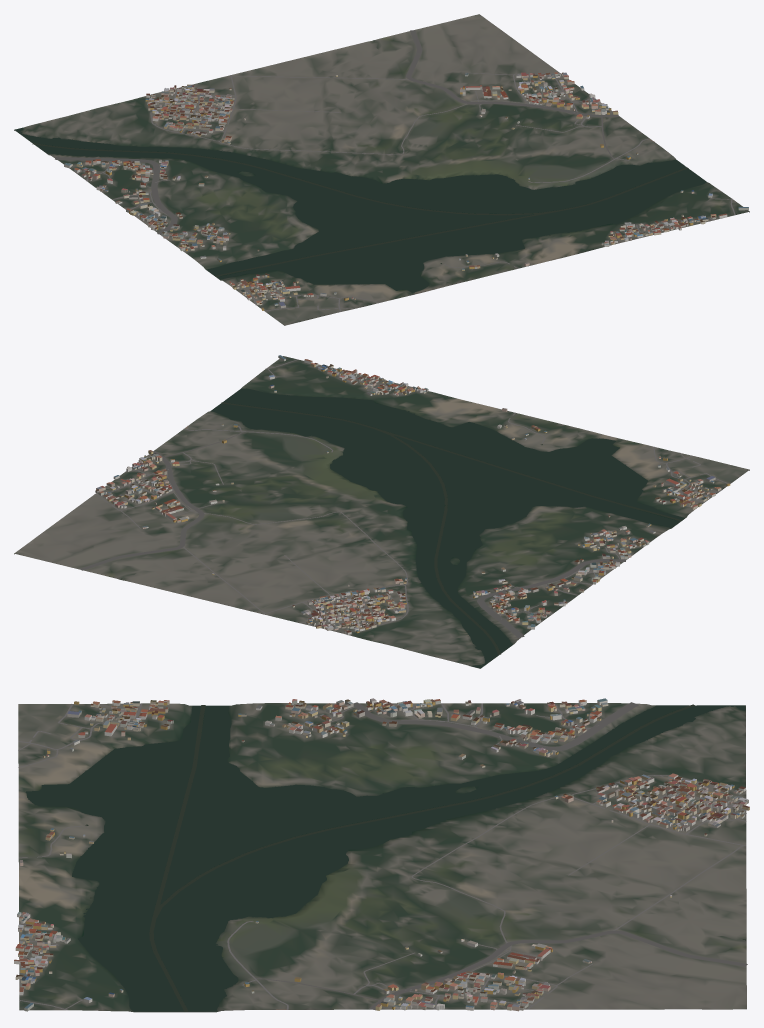
3 renders of one model, top to bottom at view 1: azimuth 30°, elevation 25°; view 2: azimuth 150°, elevation 25°; view 3: azimuth 270°, elevation 25°, orthographic. The views are drawn at different scales.
Visible parts, largest first — view 1: ground, water, buildings, roads; view 2: ground, water, buildings, roads; view 3: ground, water, buildings, roads.
Part boxes in pixels (x1,y1,x2,y2): ground: [14, 14, 749, 325]; water: [15, 40, 706, 292]; buildings: [64, 72, 748, 310]; roads: [55, 30, 735, 311]; ground: [14, 356, 749, 668]; water: [119, 388, 684, 668]; buildings: [95, 355, 730, 634]; roads: [79, 359, 727, 637]; ground: [18, 703, 746, 1012]; water: [26, 704, 745, 1012]; buildings: [14, 698, 749, 1011]; roads: [18, 702, 747, 1010].
Bounding box in the file's own units: 1411 × 18.53 × 1418.
